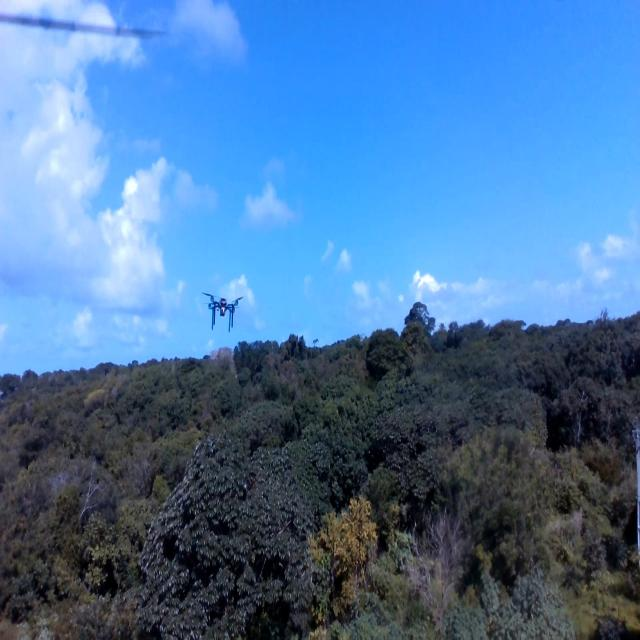-uav-: (199, 284, 247, 342)
